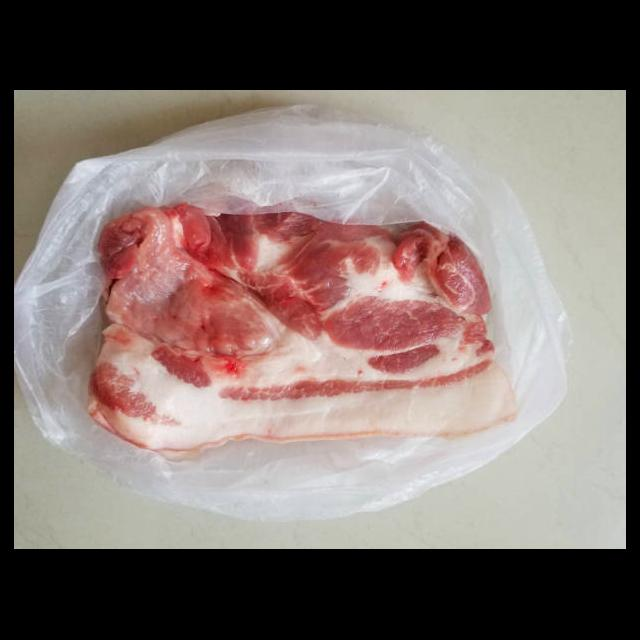pork: (87, 207, 510, 452)
